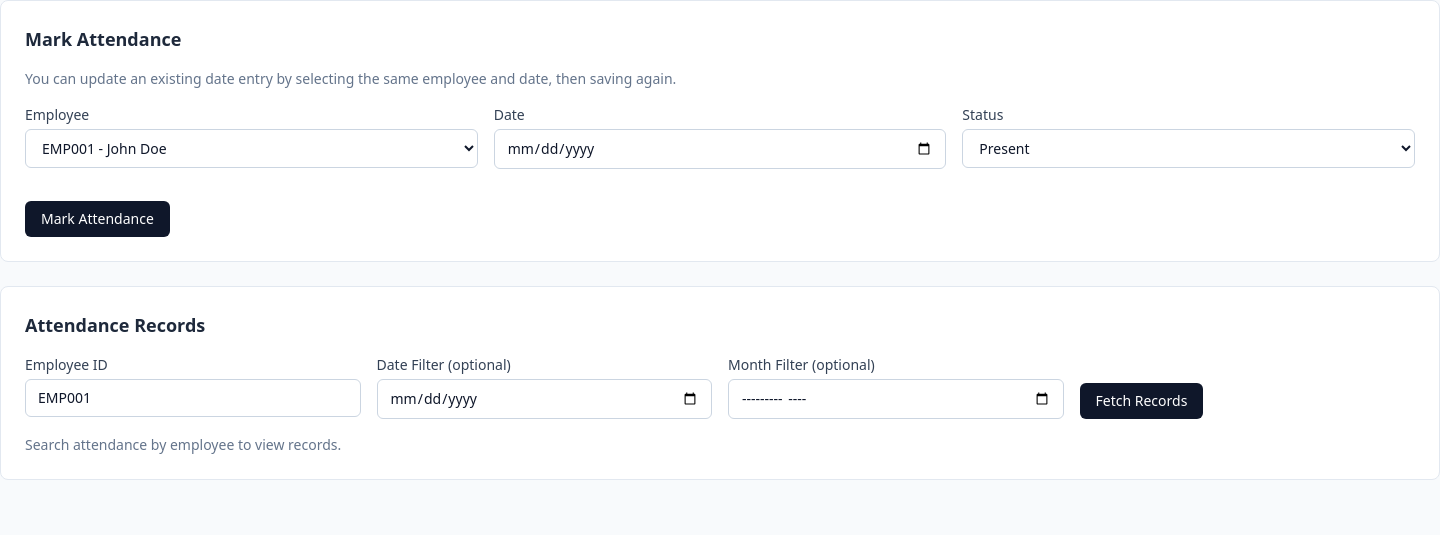
Test: AttendancePage › shows validation error when mark attendance form is incomplete
The image size is (1440, 535).
expect the heading "Mark Attendance" is shown: met, box [25,27,181,51]
Click the button "Mark Attendance".
click(97, 219)  # box [25,201,170,237]
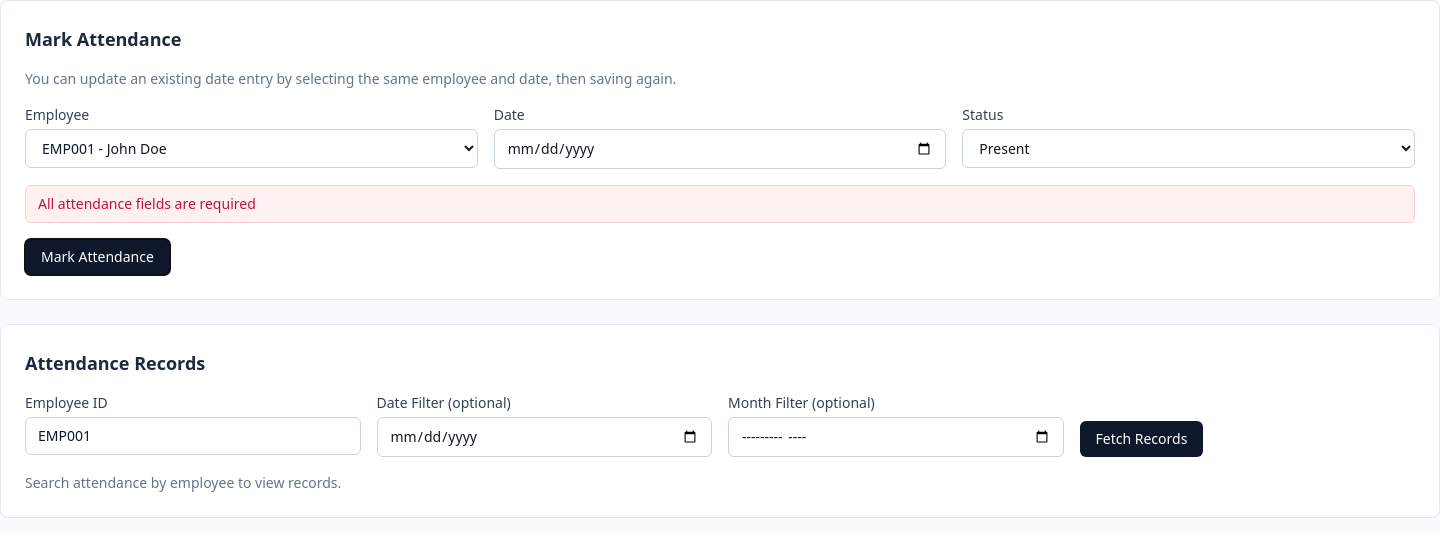
expect the text "All attendance fields are required" is shown: met, box [25,185,1415,223]
